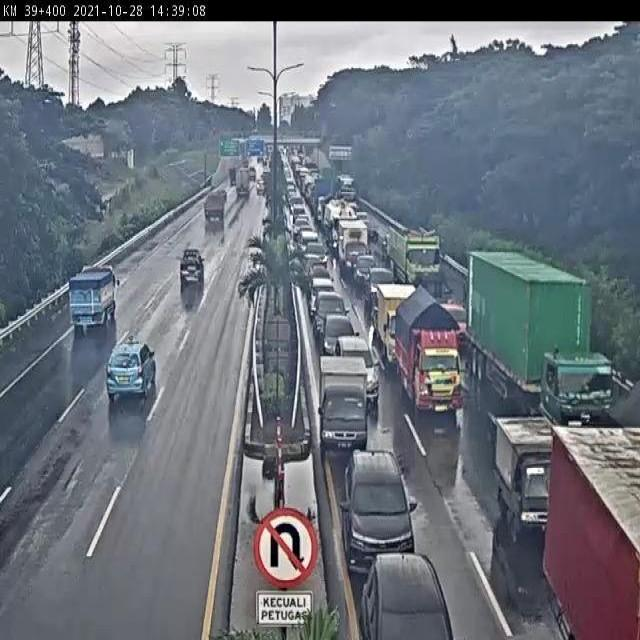big truck: (486, 272, 630, 423)
car: (342, 440, 420, 568), (361, 549, 455, 640), (108, 329, 167, 419), (336, 329, 381, 407), (312, 288, 354, 348), (441, 295, 476, 361), (323, 308, 358, 360), (181, 244, 207, 283)
small truck: (488, 409, 568, 543), (388, 299, 479, 413), (322, 352, 373, 452), (372, 277, 431, 359), (69, 261, 121, 331)
